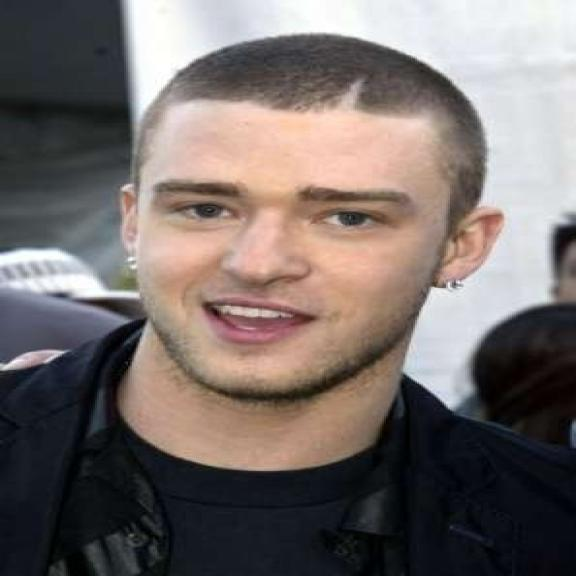face: (109, 28, 514, 406)
